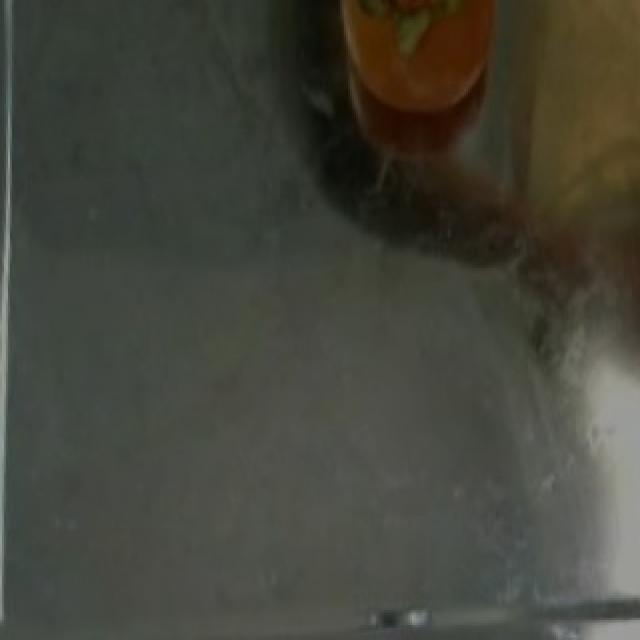Fruit: (322, 0, 534, 146)
